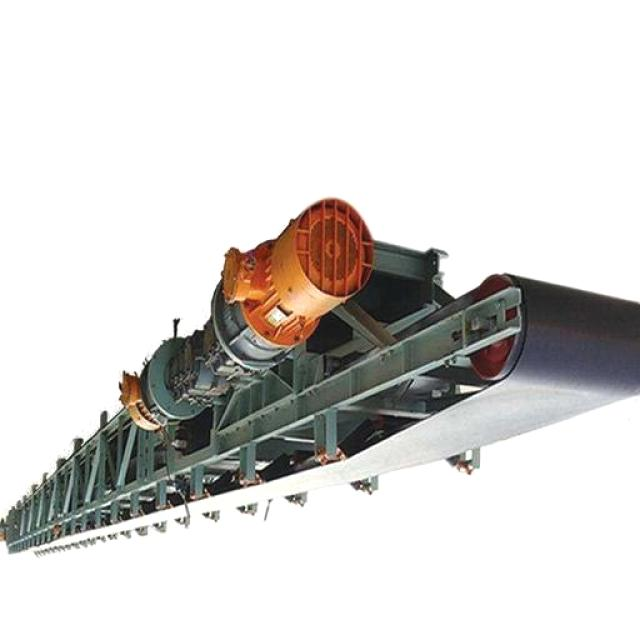conveyor: (16, 287, 640, 556)
